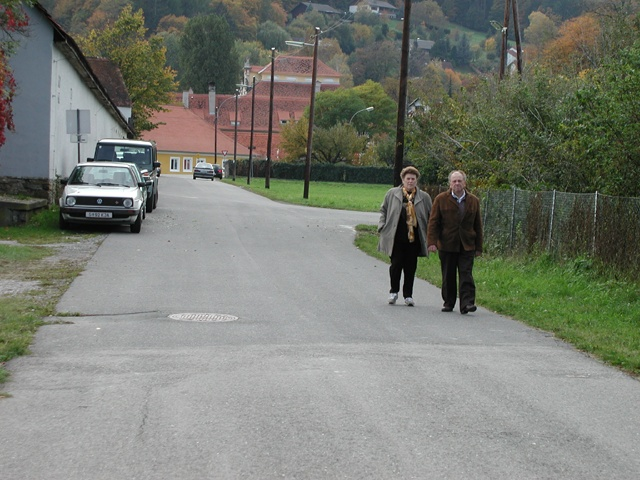person: (425, 162, 485, 313), (376, 162, 436, 305)
